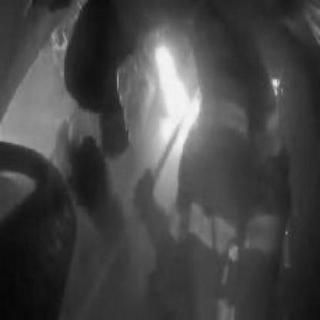Fire: (148, 45, 206, 179)
